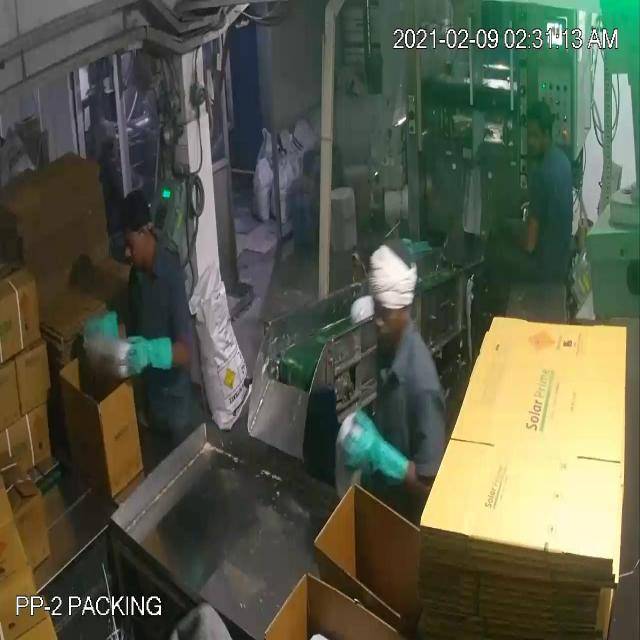gloves: (333, 410, 421, 495), (110, 308, 182, 389)
